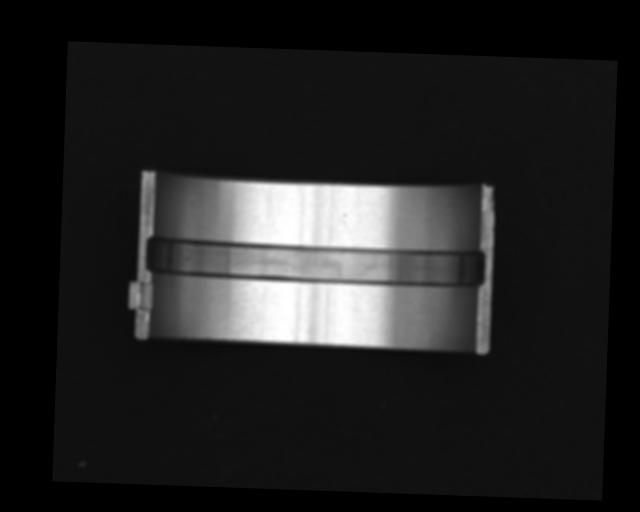gap: (142, 236, 488, 288)
